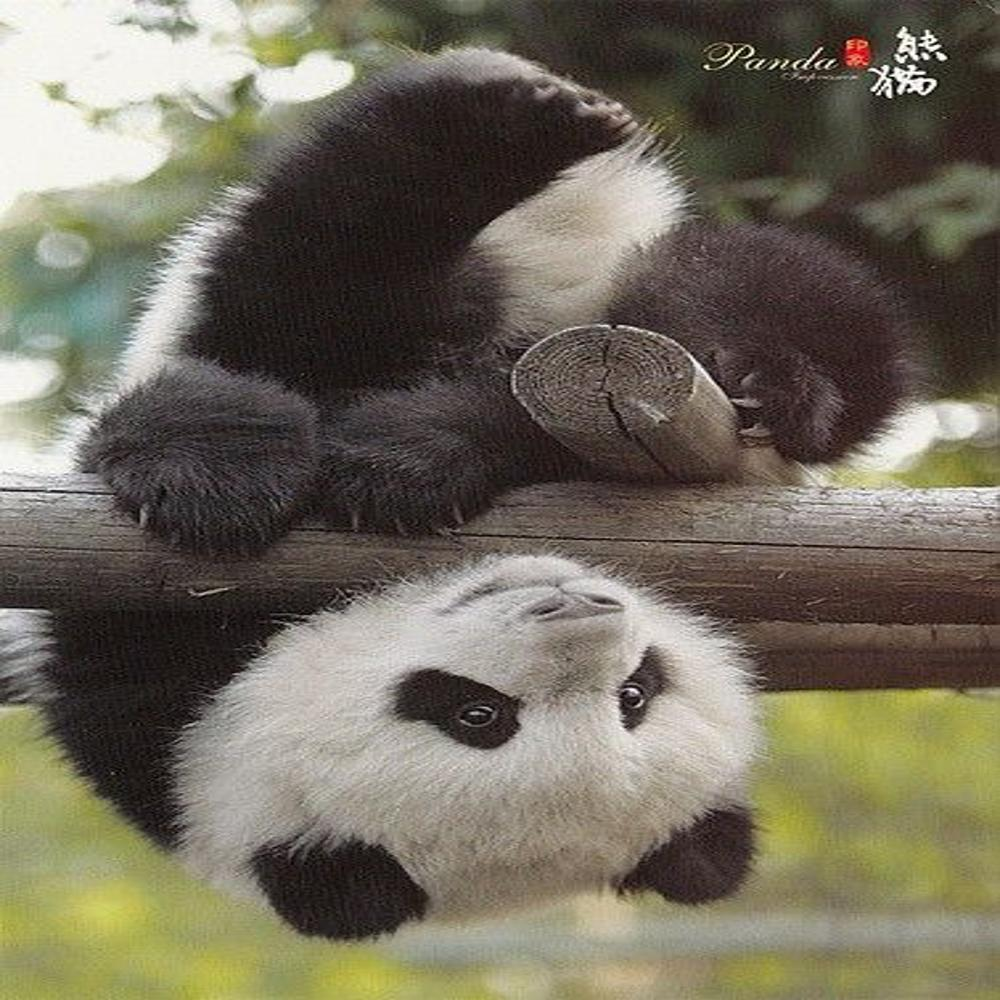panda: (32, 50, 909, 940)
